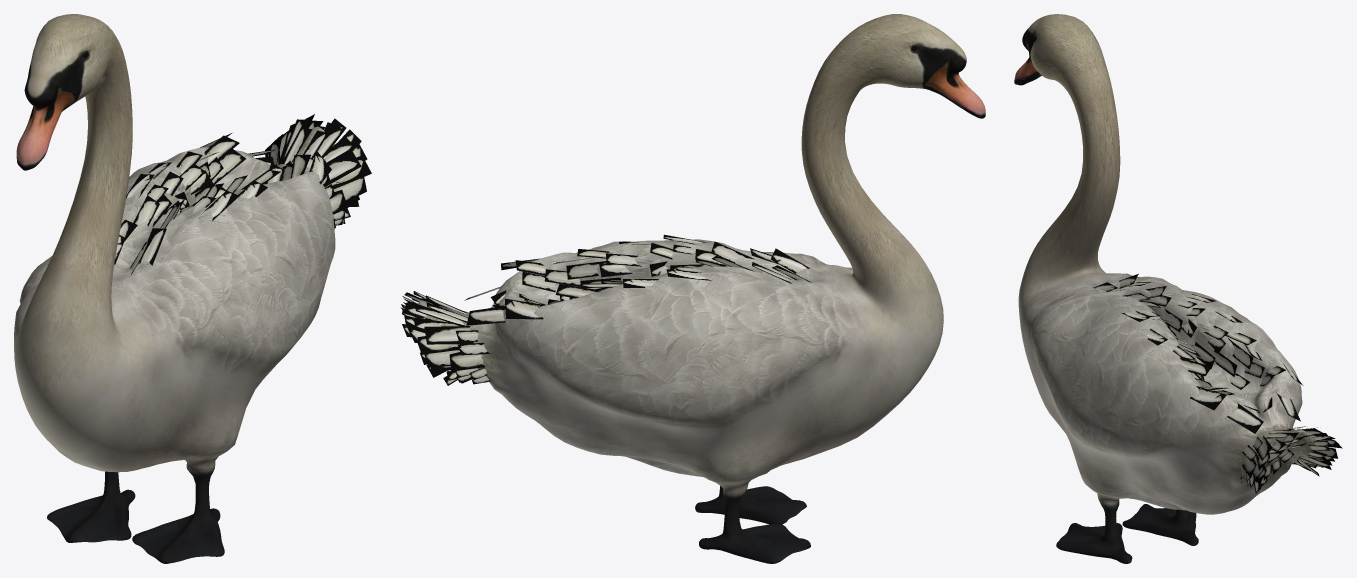
The picture shows the model from 3 angles, left to right: view 1: azimuth 30°, elevation 25°; view 2: azimuth 150°, elevation 25°; view 3: azimuth 270°, elevation 25°; orthographic projection. The views are drawn at different scales.
Parts seen in each view (by area): view 1: swan; view 2: swan; view 3: swan.
Part boxes in pixels (bbox=[...]): swan: bbox=[14, 14, 371, 563]; swan: bbox=[400, 14, 985, 563]; swan: bbox=[1014, 14, 1342, 563].
Size of the model in its own units: 0.0366 by 0.0402 by 0.0254.
1 material, 1 textured.
